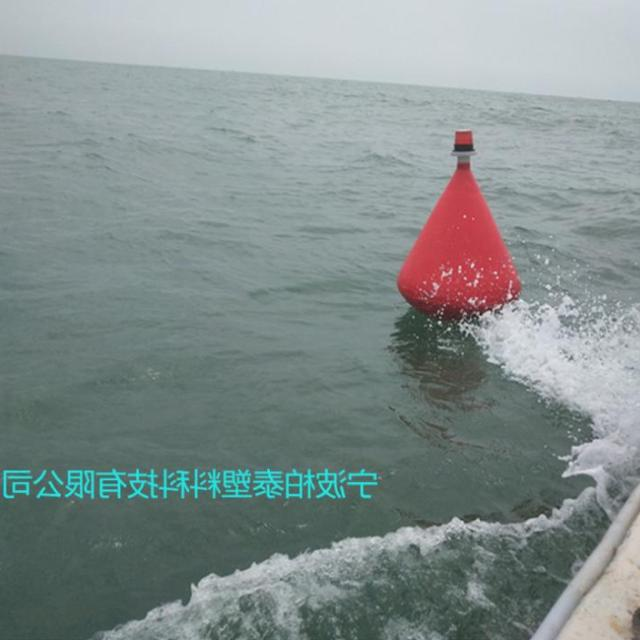buoy: (397, 124, 521, 318)
